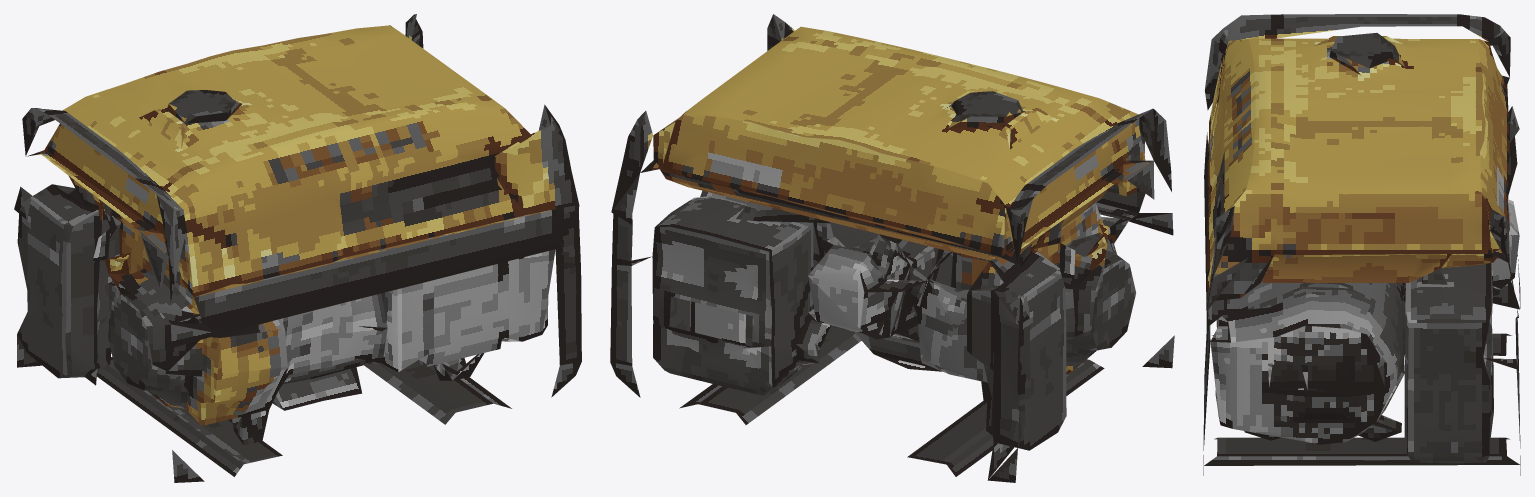
File: portable_generator.glb
3 views of the same model, side by side, from view 1: azimuth 30°, elevation 25°; view 2: azimuth 150°, elevation 25°; view 3: azimuth 270°, elevation 25° (orthographic).
Visible parts, largest first — view 1: mesh; view 2: mesh; view 3: mesh.
Part boxes in pixels (x1,y1,x2,y2): mesh: (14,14,581,482); mesh: (610,14,1174,482); mesh: (1203,14,1520,475).
Bounding box in the file's own units: 0.8013 × 0.5769 × 0.5328.
1 material, 1 textured.
